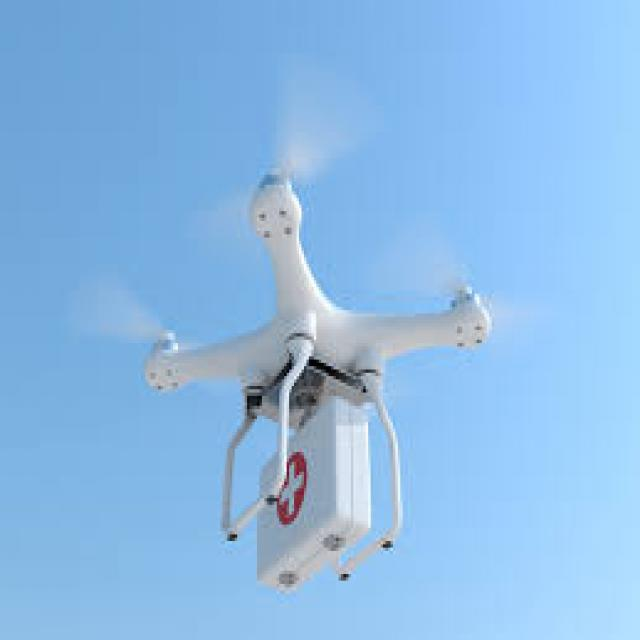drones: (56, 59, 563, 606)
